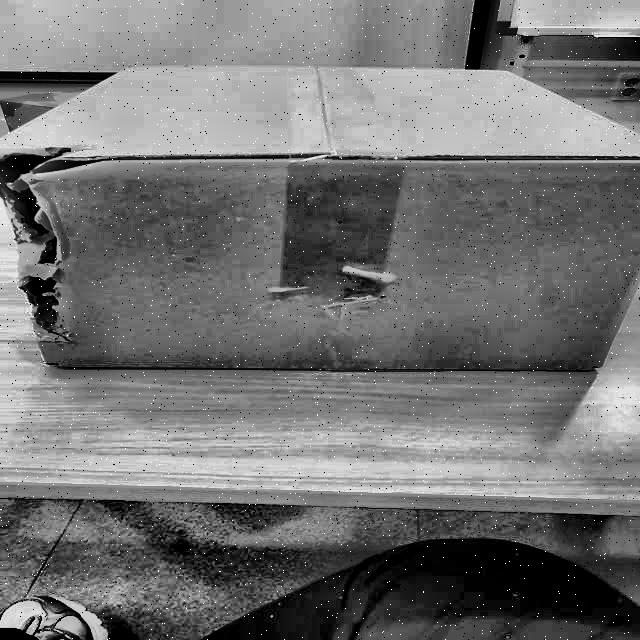box: (1, 54, 640, 385)
hole: (0, 154, 89, 313)
